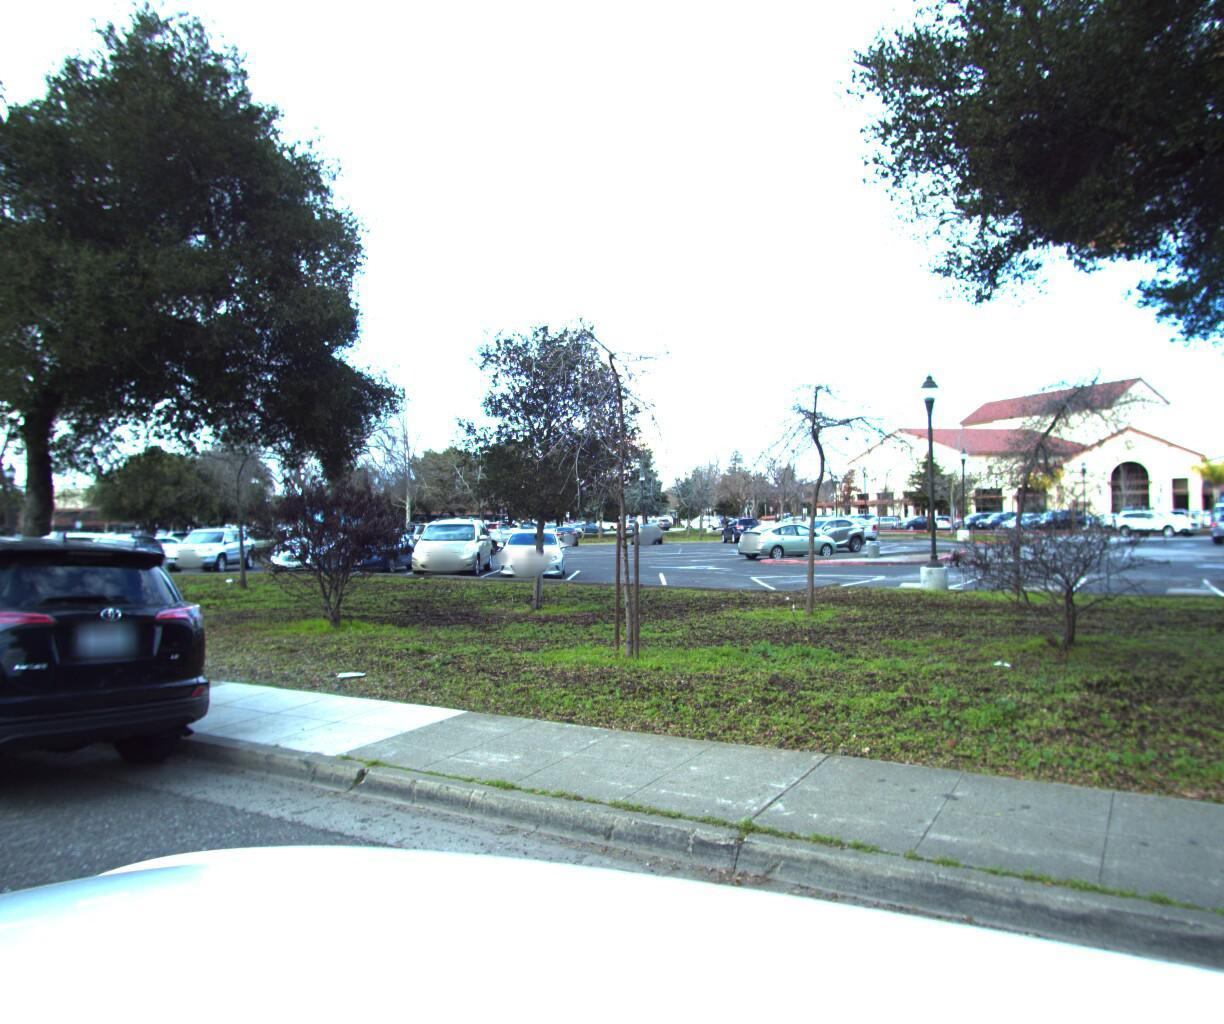car: (0, 513, 260, 863)
